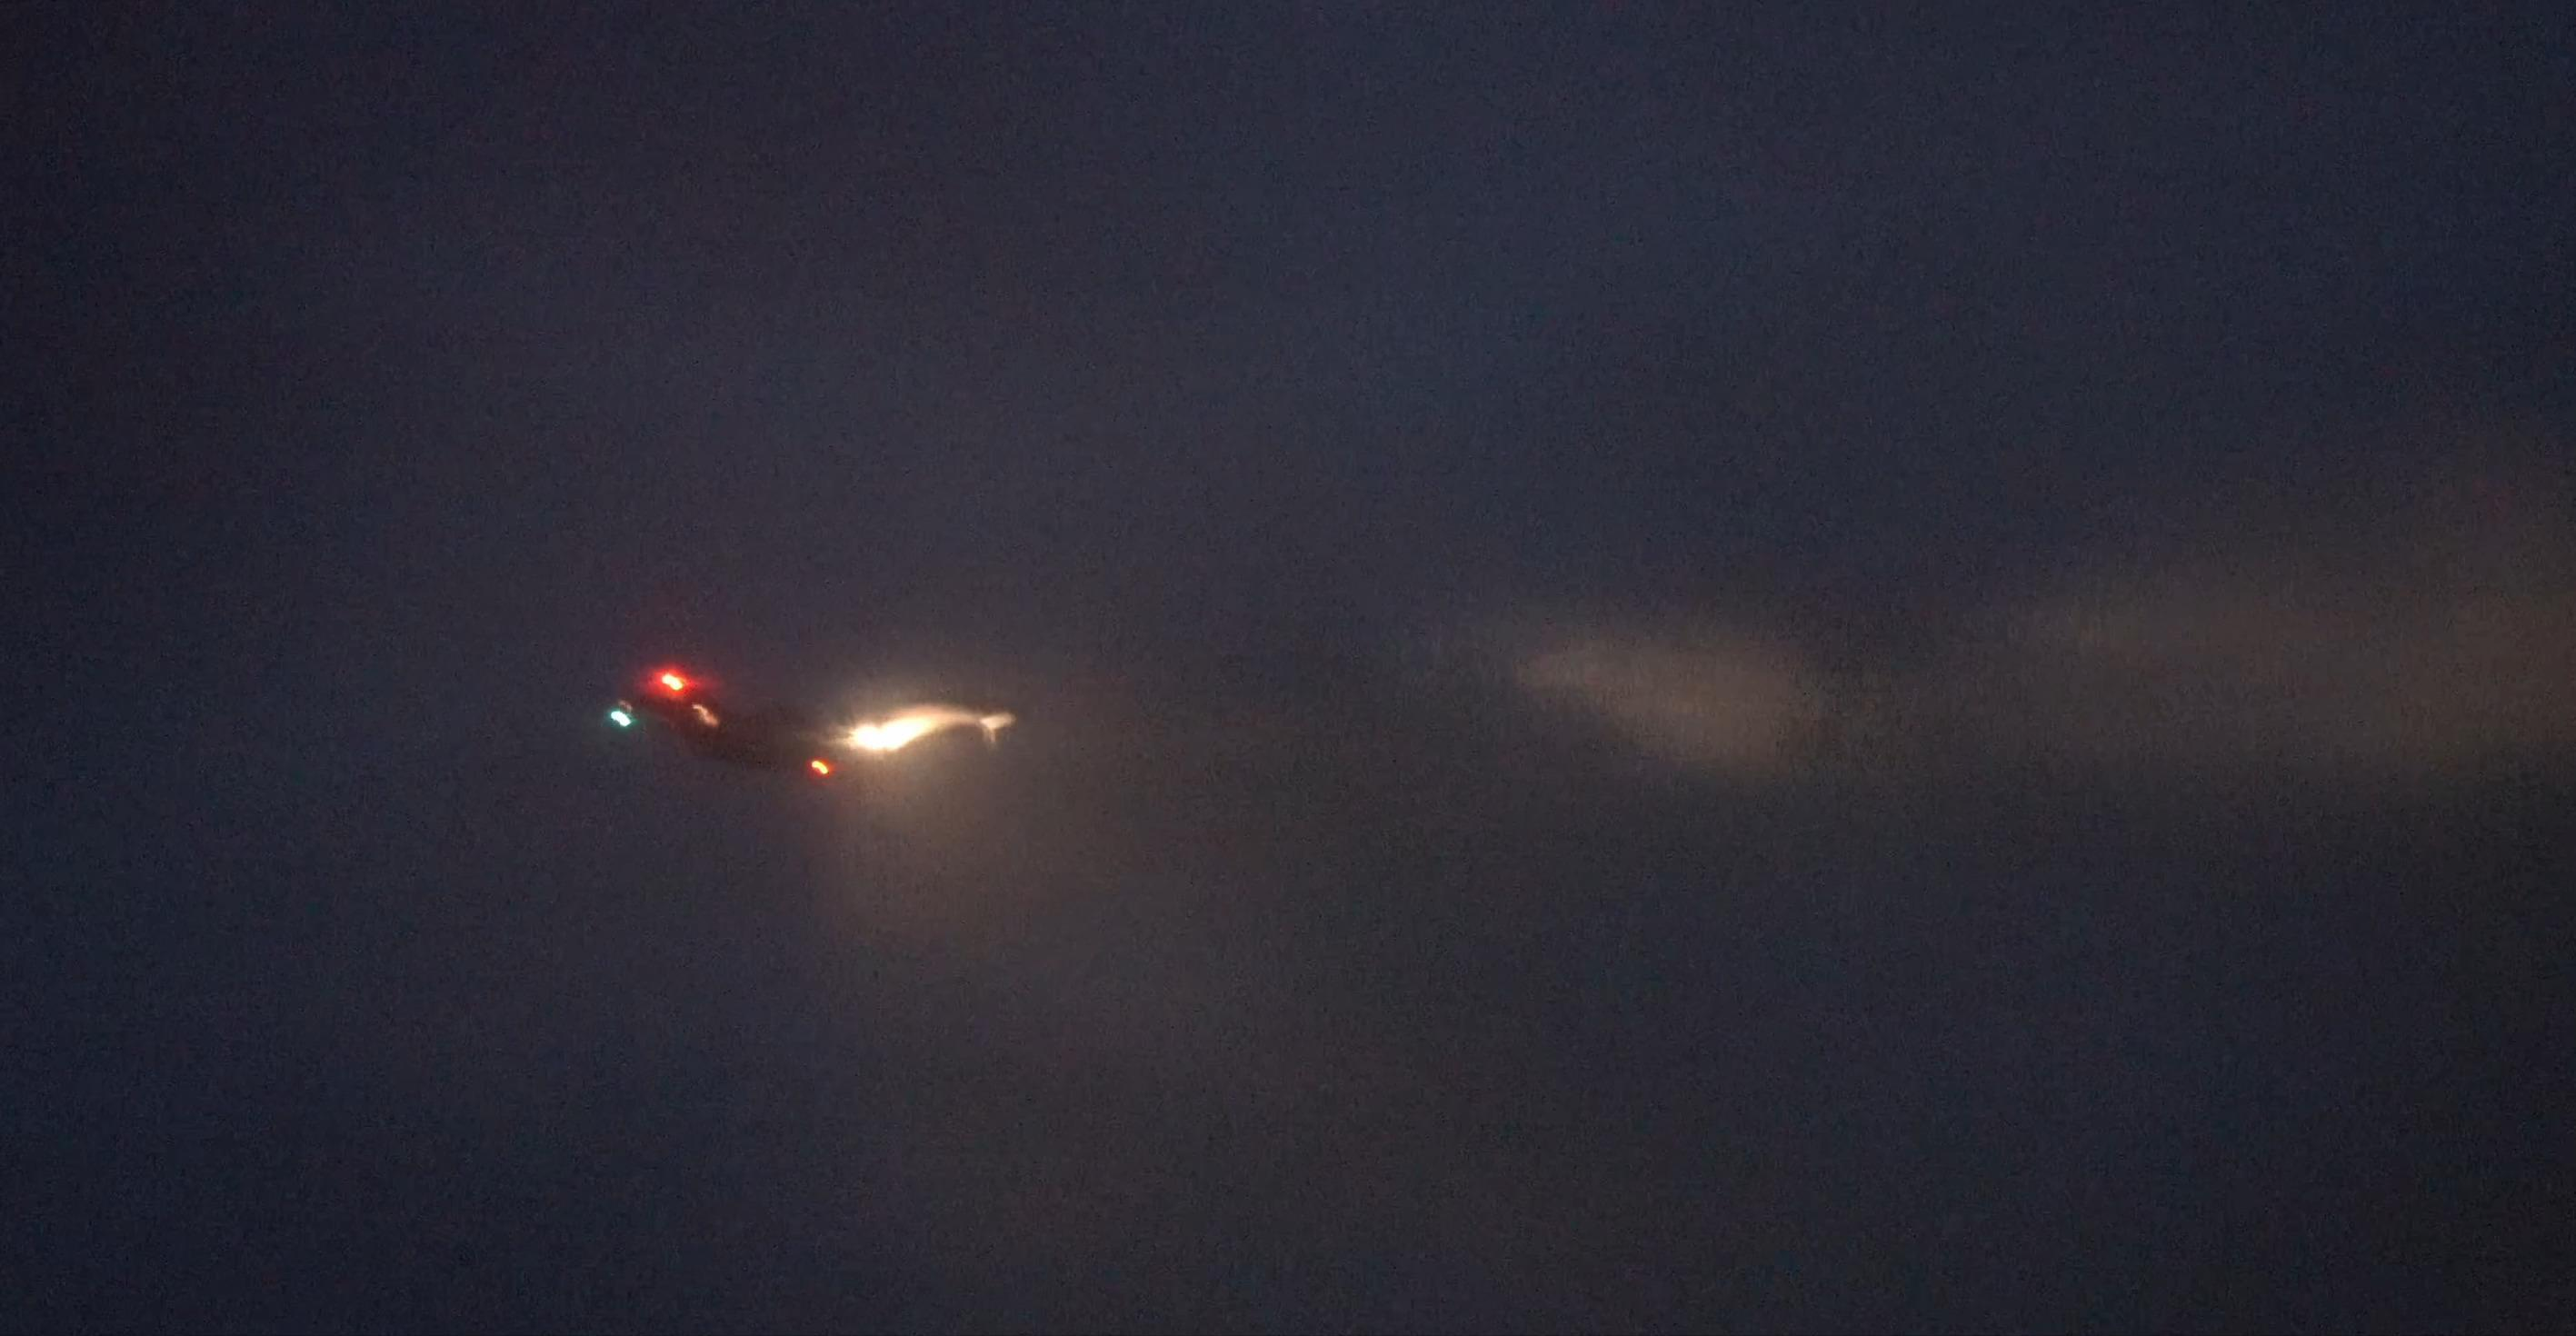Plane: (591, 644, 1010, 835)
